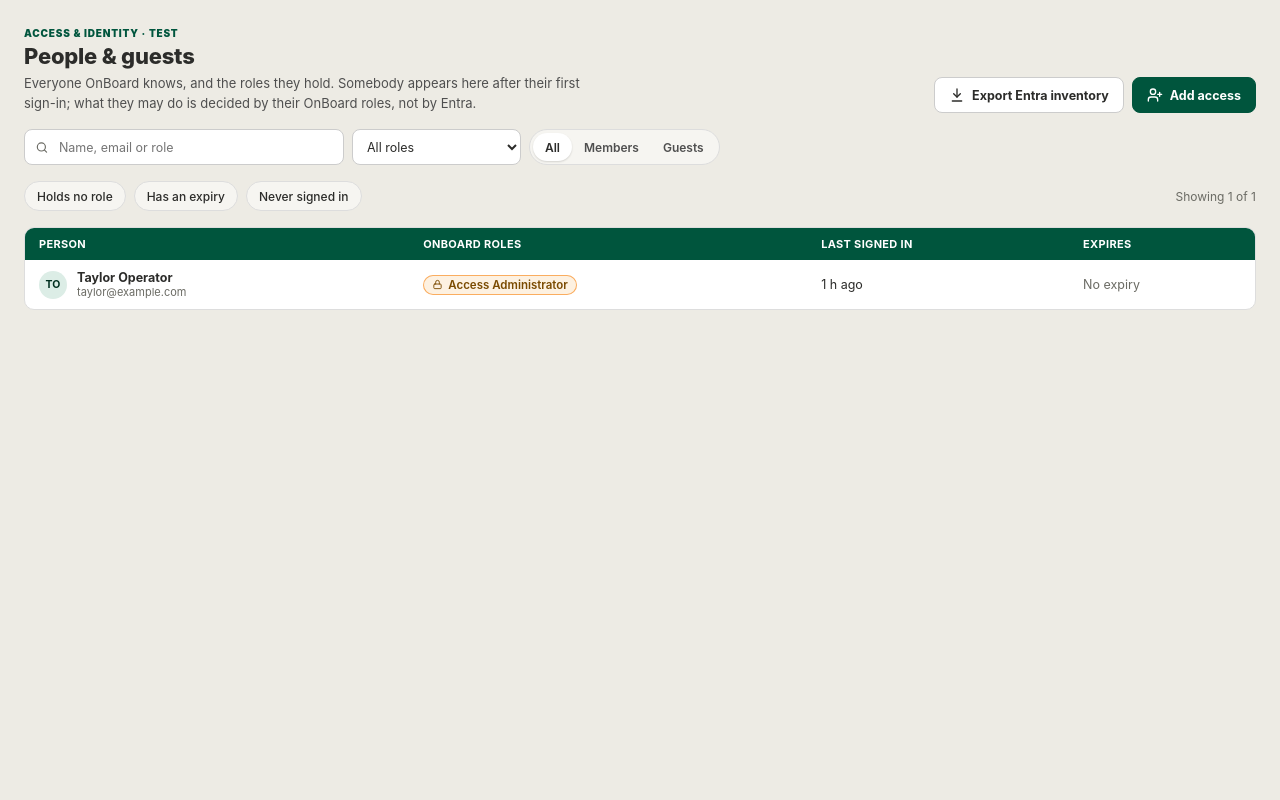
Scenario: People & guests › reads a privileged removal as waiting for a second Access Administrator
Click the button "Taylor Operator" at x=125, y=278, box [77,270,172,285]
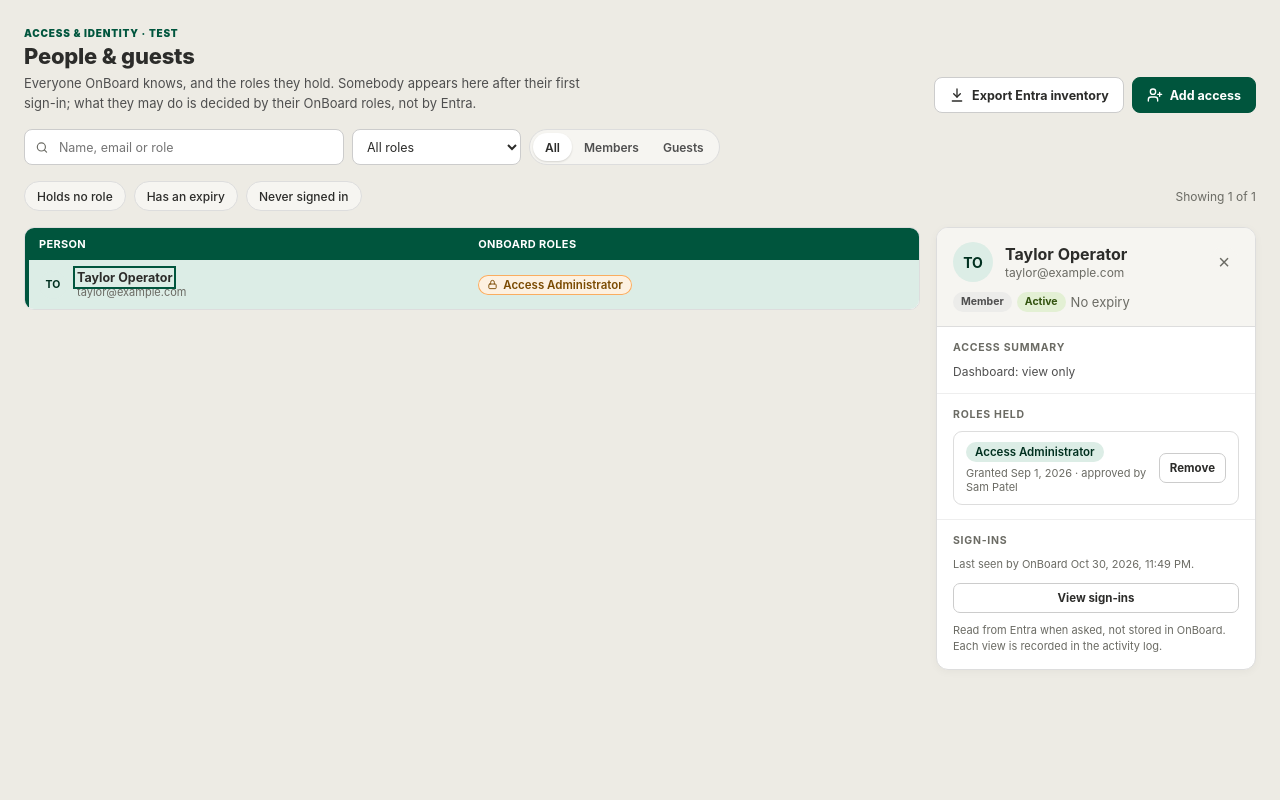
Click the button with aria-label "Remove access: Access Administrator for Taylor Operator" at x=1192, y=468, box [1159,453,1226,483]
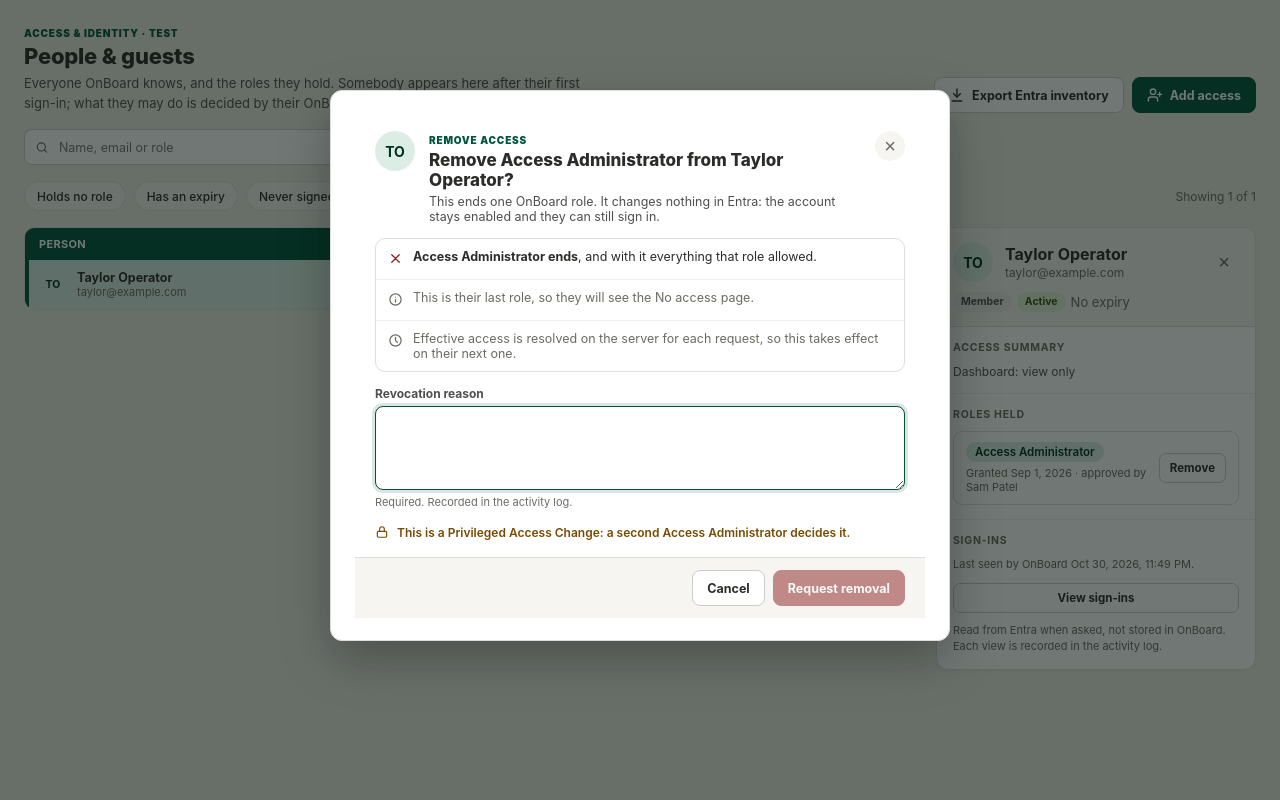
Check: the text "This is a Privileged Access Change: a second Access Administrator decides it." is shown, box [375,523,905,541]
Type "Left the team" into the text box labelled "Revocation reason Required. Recorded in the activity log." at x=640, y=448, box [375,406,905,490]
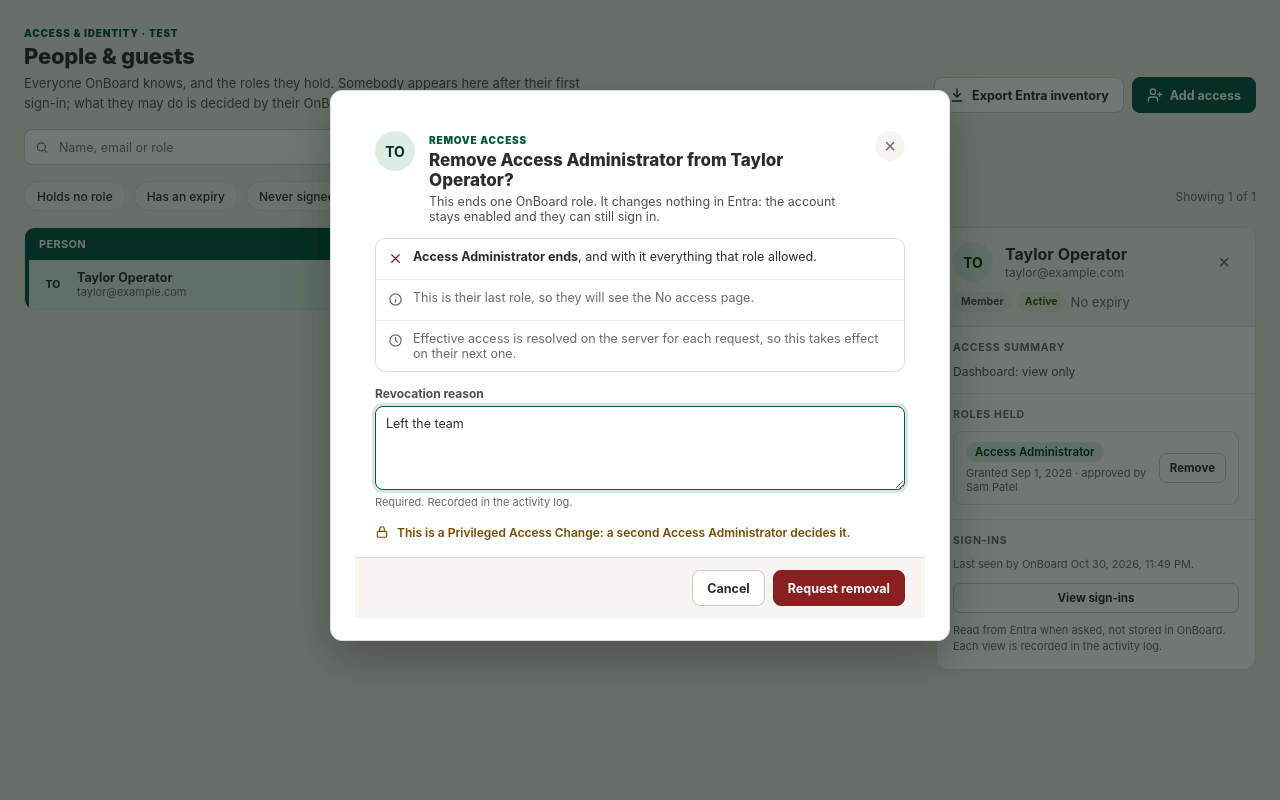
Click the button "Request removal" at x=839, y=588, box [773,570,905,606]
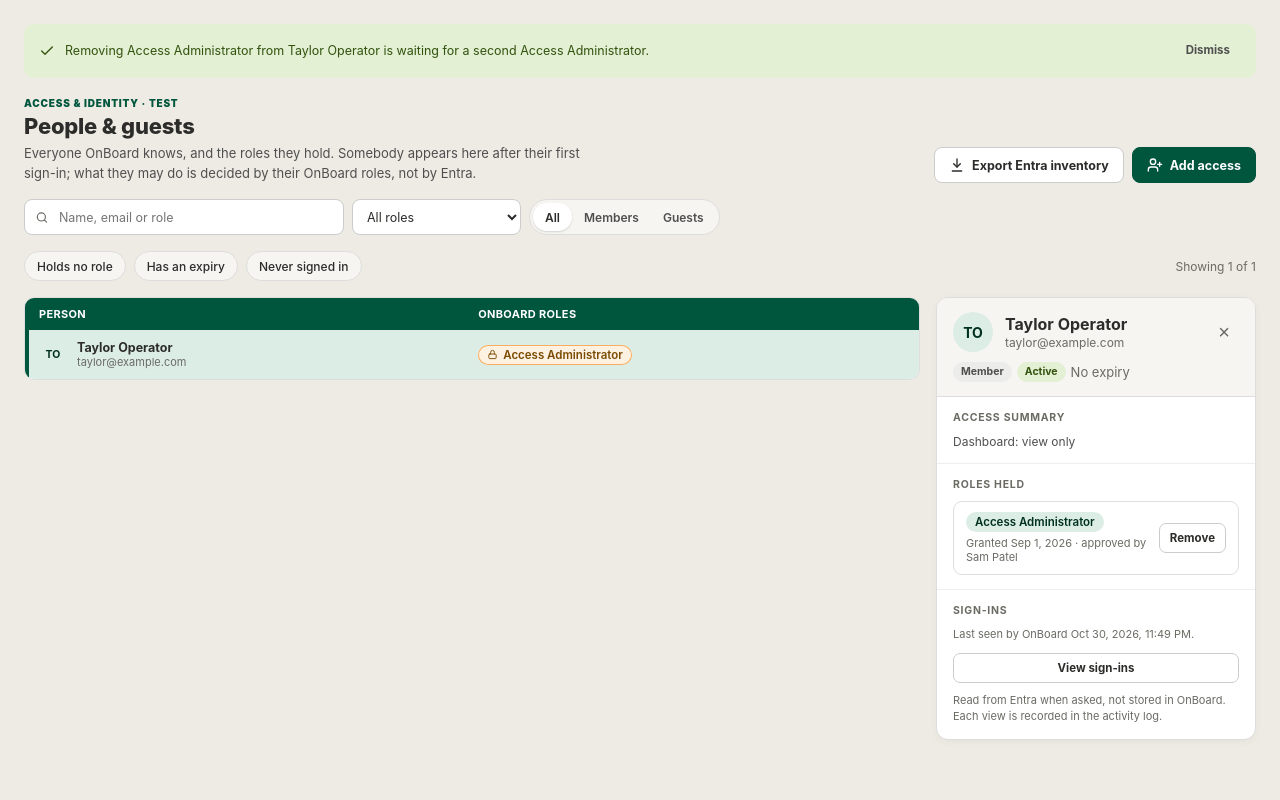
Check: the text "Removing Access Administrator from Taylor Operator is waiting for a second Access Administrator." is shown, box [65,43,649,58]
